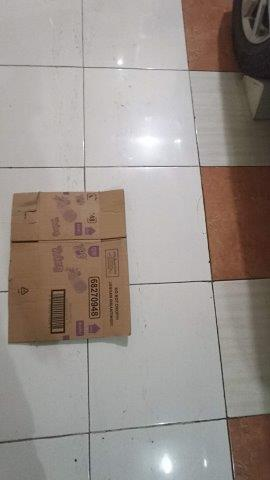kardus: (10, 191, 131, 341)
